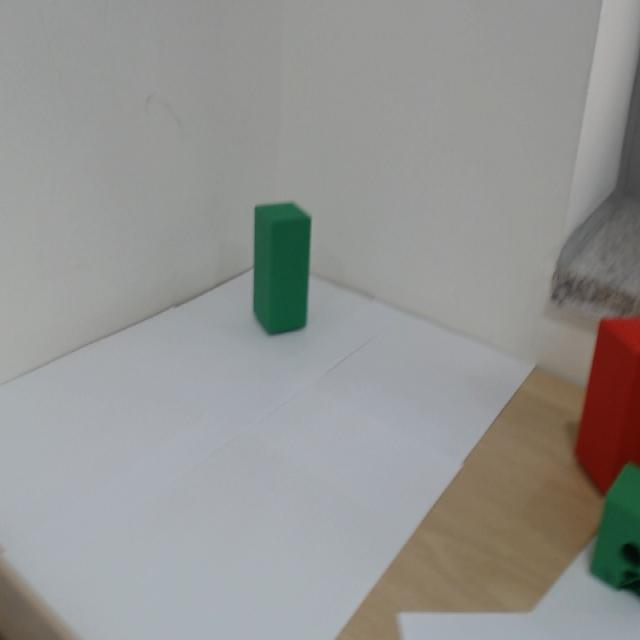cube: (219, 135, 369, 395)
